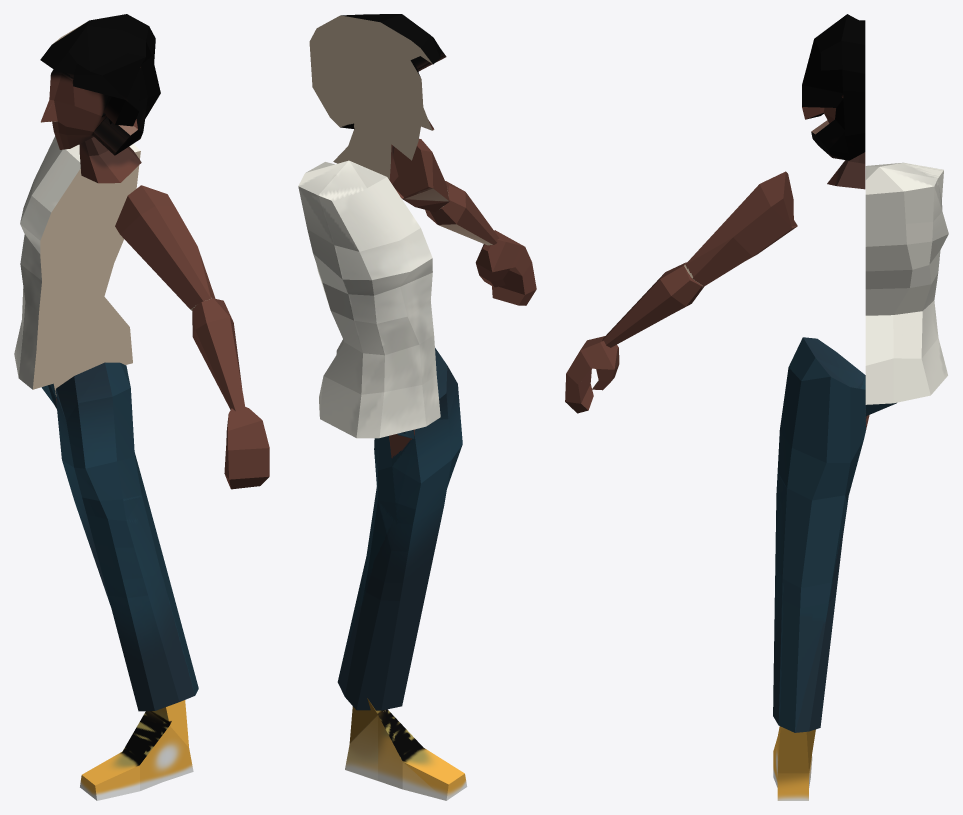
File: manprocjam2 still.glb
The picture shows the model from 3 angles, left to right: view 1: azimuth 30°, elevation 25°; view 2: azimuth 150°, elevation 25°; view 3: azimuth 270°, elevation 25°; orthographic projection. The views are drawn at different scales.
Parts seen in each view (by area): view 1: Cube.005, Cube.001, Cube, Cube.003, Cube.008, Cube.004; view 2: Cube.001, Cube.005, Cube, Cube.008, Cube.003, Cube.004; view 3: Cube.005, Cube.001, Cube.003, Cube, Cube.008, Cube.004.
Part boxes in pixels (x1,y1,x2,y2): Cube.005: (55, 362, 198, 711); Cube.001: (14, 136, 140, 389); Cube: (40, 14, 160, 183); Cube.003: (115, 185, 245, 411); Cube.008: (80, 700, 193, 800); Cube.004: (224, 407, 269, 489); Cube.001: (298, 160, 440, 438); Cube.005: (337, 348, 462, 710); Cube: (309, 14, 446, 183); Cube.008: (345, 698, 467, 800); Cube.003: (392, 138, 499, 245); Cube.004: (475, 230, 536, 305); Cube.005: (773, 337, 869, 732); Cube.001: (865, 162, 948, 404); Cube.003: (602, 171, 797, 347); Cube: (802, 14, 865, 189); Cube.008: (773, 726, 815, 800); Cube.004: (565, 336, 619, 413).
Bounding box in the file's own units: 1.42 × 7.65 × 3.52.
1 material, 1 textured.
